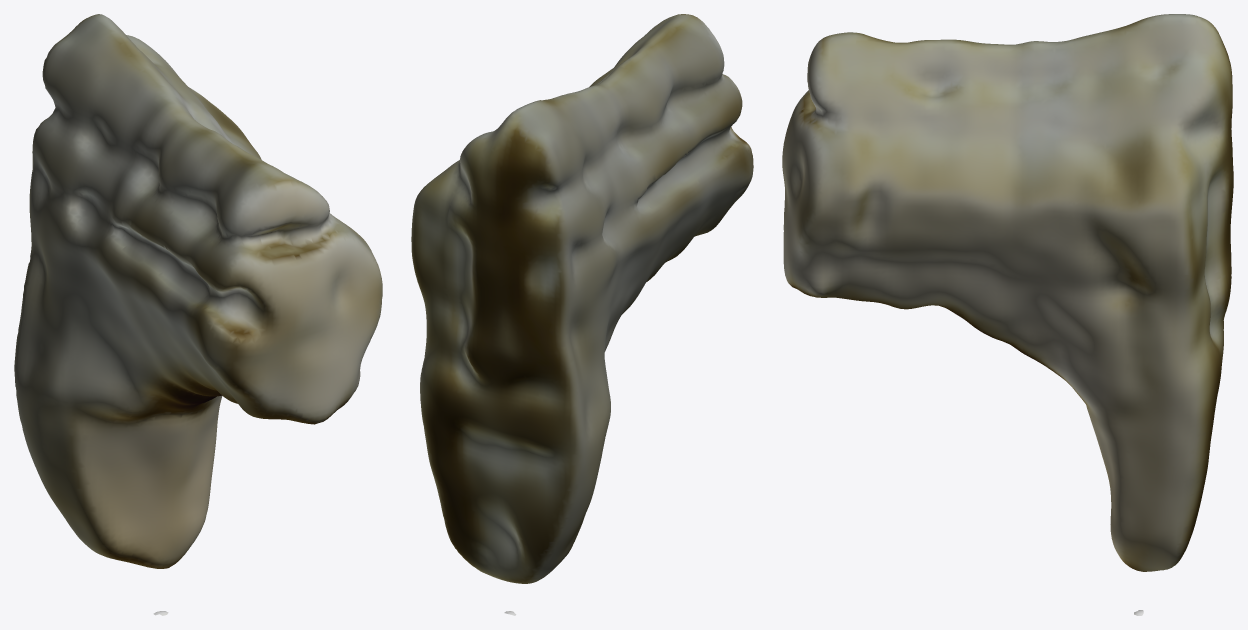
The model's file is shoe1.glb.
The picture shows the model from 3 angles, left to right: view 1: azimuth 30°, elevation 25°; view 2: azimuth 150°, elevation 25°; view 3: azimuth 270°, elevation 25°; orthographic projection. The views are drawn at different scales.
Size of the model in its own units: 0.3659 by 0.9991 by 0.7038.
